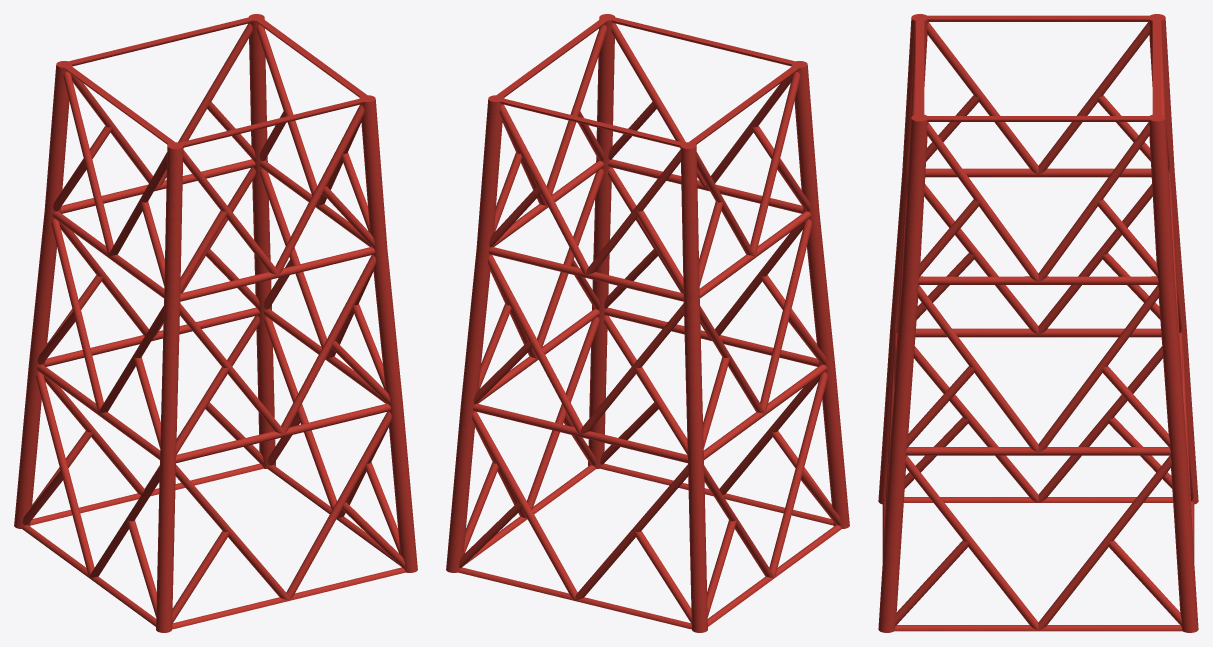
3 views of the same model, side by side, from view 1: azimuth 30°, elevation 25°; view 2: azimuth 150°, elevation 25°; view 3: azimuth 270°, elevation 25° (orthographic). The views are drawn at different scales.
Parts seen in each view (by area): view 1: H13-H16; view 2: H13-H16; view 3: H13-H16.
Boxes of the visible parts, x1,y1,x2,y2 form: H13-H16: (14,14,417,632); H13-H16: (446,14,849,632); H13-H16: (878,14,1198,632).
Size of the model in its own units: 18.6 by 31.9 by 18.6.
